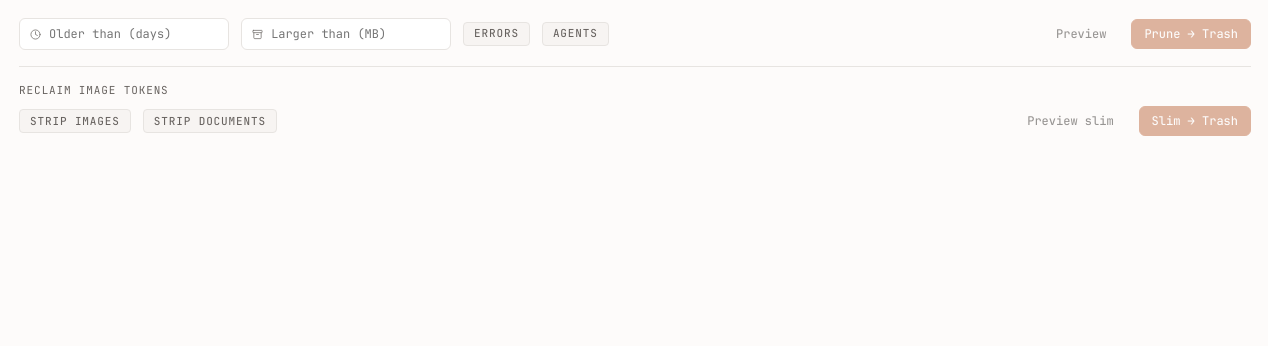
Scenario: CleanupPane › slim preview surfaces failed_to_plan rows in a dedicated banner
Type "7" into the number field named "Older than days" at (134, 34), box [49,26,218,42]
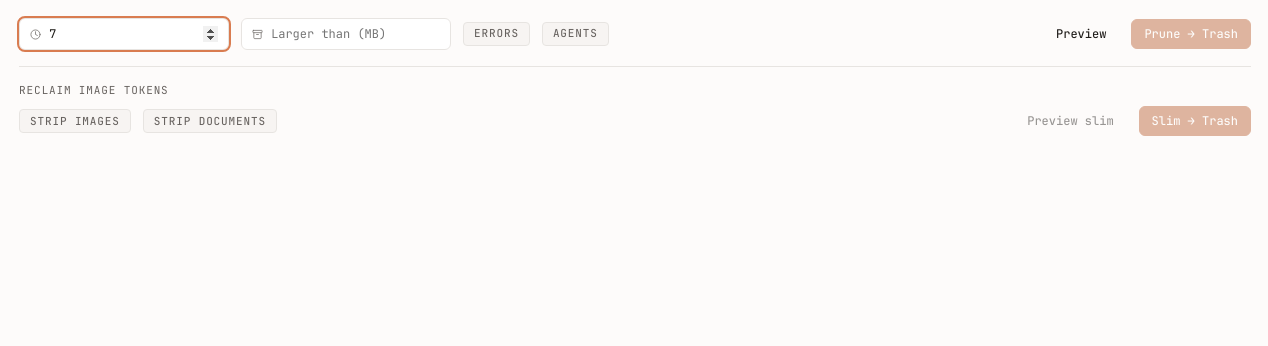
Click the switch labelled "Strip images" at (75, 121), box [19,109,131,133]
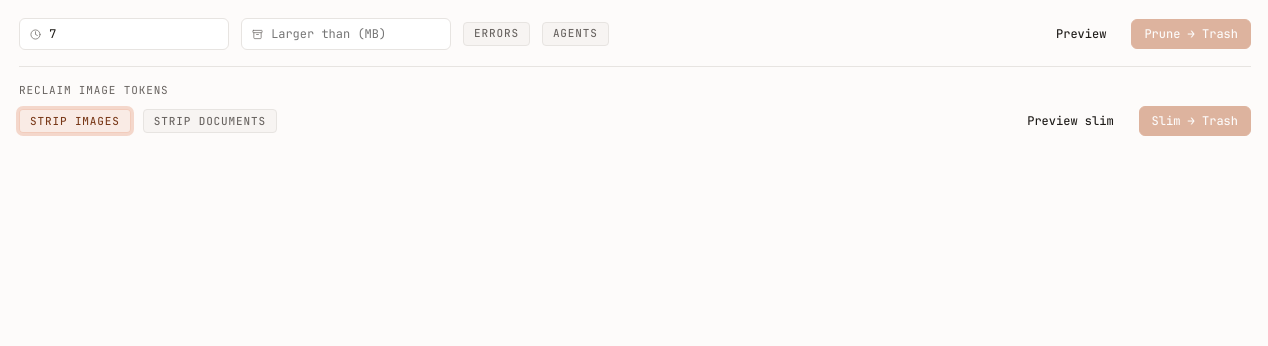
Click the button "Preview slim" at (1070, 121), box [1014,106,1127,136]
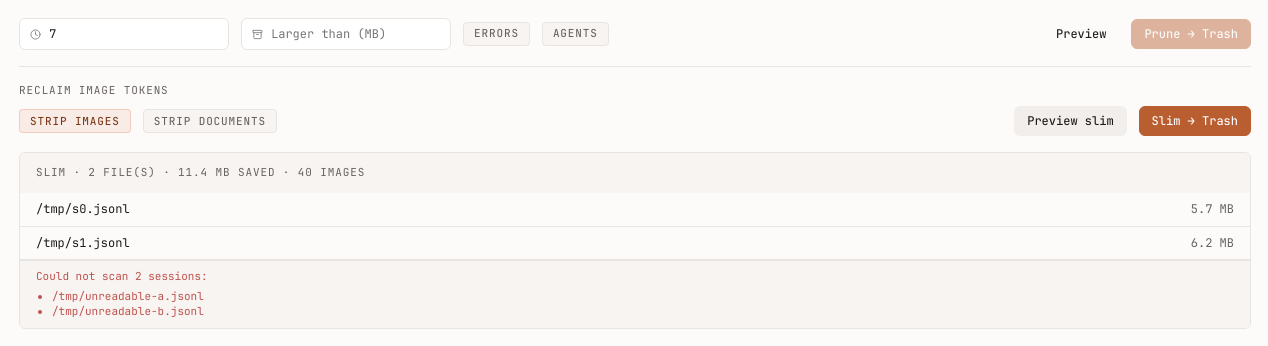
Now the element with test id "slim-preview" is shown, box [19,152,1251,329]
Now the element with test id "slim-failed-to-plan" is shown, box [20,260,1250,328]
Now the element with test id "slim-failed-to-plan" shows "Could not scan 2 sessions", box [36,269,208,283]
